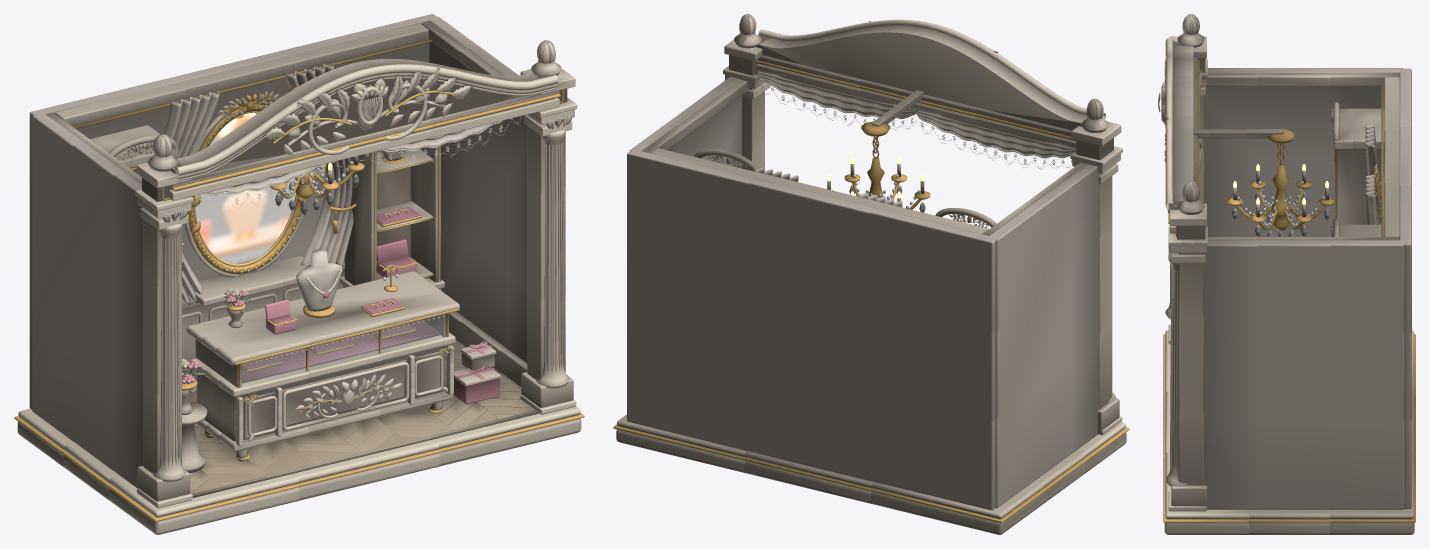
The model's file is Boutique-web.glb.
3 renders of one model, left to right at view 1: azimuth 30°, elevation 25°; view 2: azimuth 150°, elevation 25°; view 3: azimuth 270°, elevation 25°, orthographic. The views are drawn at different scales.
Parts seen in each view (by area): view 1: Boutique_01, Boutique_06, Boutique_02, Boutique_04, Boutique_08, Boutique_03, Boutique_16, Boutique_10, Boutique_14, Boutique_07, Boutique_oak parquet 5, Boutique_oak parquet 6 (+8 smaller); view 2: Boutique_06, Boutique_01, Boutique_02, Boutique_08, Boutique_04, Boutique_09; view 3: Boutique_06, Boutique_01, Boutique_02, Boutique_04, Boutique_08, Boutique_15.
Part boxes in pixels (x1=…): Boutique_01: x1=17, y1=23, x2=581, y2=534; Boutique_06: x1=29, y1=14, x2=527, y2=487; Boutique_02: x1=18, y1=21, x2=580, y2=517; Boutique_04: x1=14, y1=39, x2=584, y2=521; Boutique_08: x1=164, y1=62, x2=498, y2=305; Boutique_03: x1=133, y1=73, x2=557, y2=497; Boutique_16: x1=195, y1=112, x2=295, y2=264; Boutique_10: x1=242, y1=206, x2=440, y2=383; Boutique_14: x1=242, y1=315, x2=443, y2=385; Boutique_07: x1=265, y1=239, x2=499, y2=404; Boutique_oak parquet 5: x1=190, y1=383, x2=521, y2=493; Boutique_oak parquet 6: x1=189, y1=347, x2=512, y2=476; Boutique_06: x1=627, y1=77, x2=1099, y2=510; Boutique_01: x1=616, y1=14, x2=1126, y2=534; Boutique_02: x1=617, y1=14, x2=1125, y2=519; Boutique_08: x1=755, y1=70, x2=1076, y2=207; Boutique_04: x1=613, y1=60, x2=1129, y2=522; Boutique_09: x1=759, y1=78, x2=1072, y2=197; Boutique_06: x1=1203, y1=68, x2=1411, y2=509; Boutique_01: x1=1164, y1=14, x2=1414, y2=534; Boutique_02: x1=1158, y1=14, x2=1413, y2=519; Boutique_04: x1=1163, y1=60, x2=1415, y2=522; Boutique_08: x1=1199, y1=69, x2=1378, y2=224; Boutique_15: x1=1232, y1=181, x2=1330, y2=236.
Bounding box in the file's own units: 6.16 × 5.68 × 3.58.
Materials: 27 (6 with a texture image).
